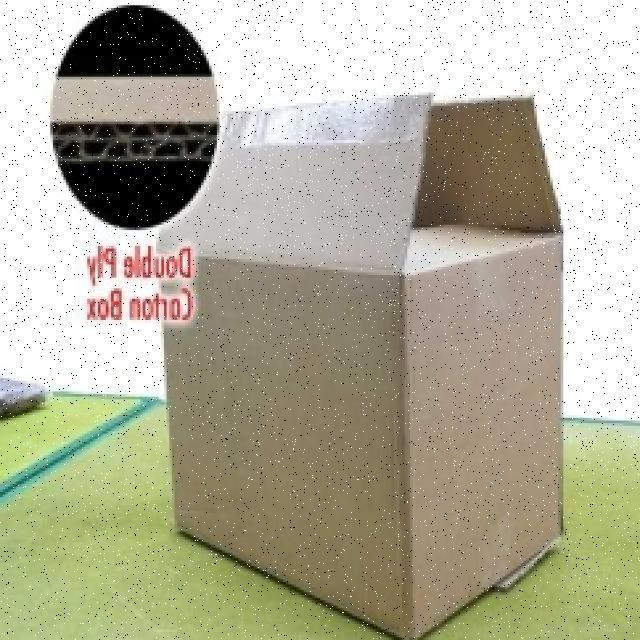box: (142, 50, 600, 640)
